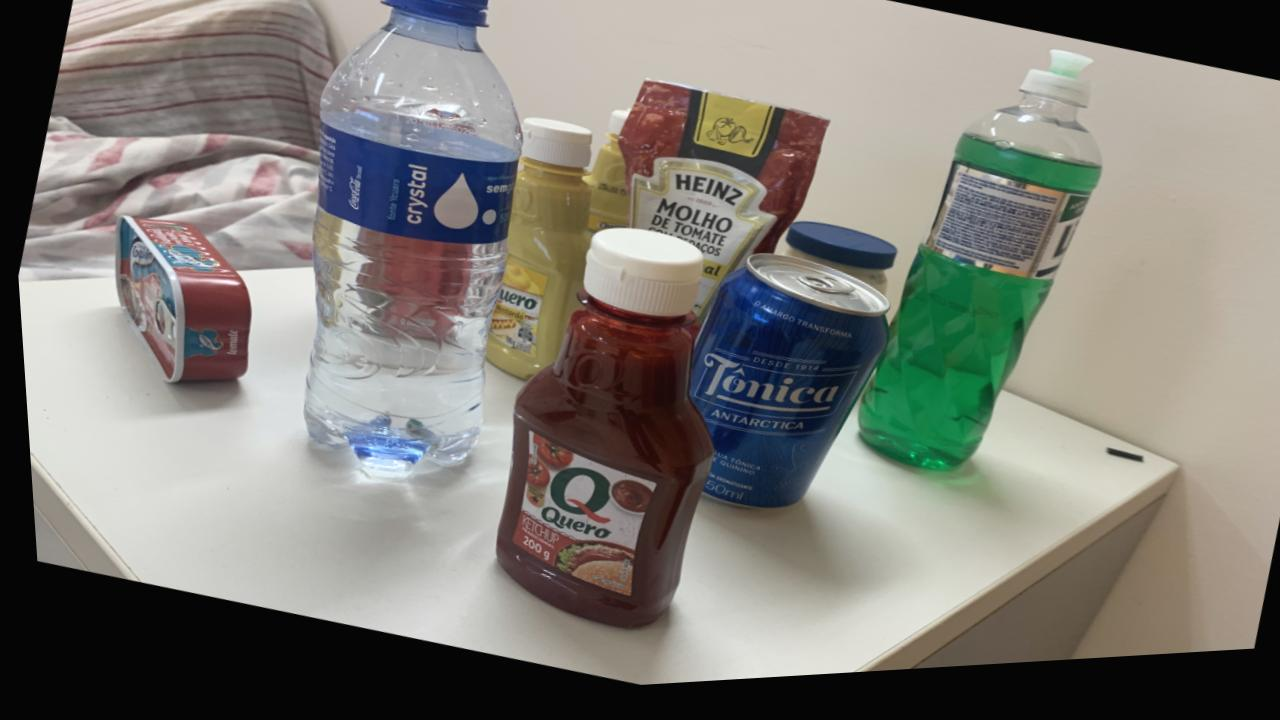Detergent-Cleanup_Items: (851, 64, 1100, 482)
Ketchup-Pantry_Items: (487, 235, 706, 635)
Mayonnaise-Pantry_Items: (781, 231, 893, 305)
Mustard-Pantry_Items: (480, 124, 591, 386), (582, 117, 627, 240)
Tomato_Sauce-Pantry_Items: (615, 88, 827, 325)
Tonic-Drinks: (683, 262, 885, 518)
Tuna_Can-Pantry_Items: (111, 217, 247, 385)
Water_Bottle-Drinks: (297, 0, 520, 483)
